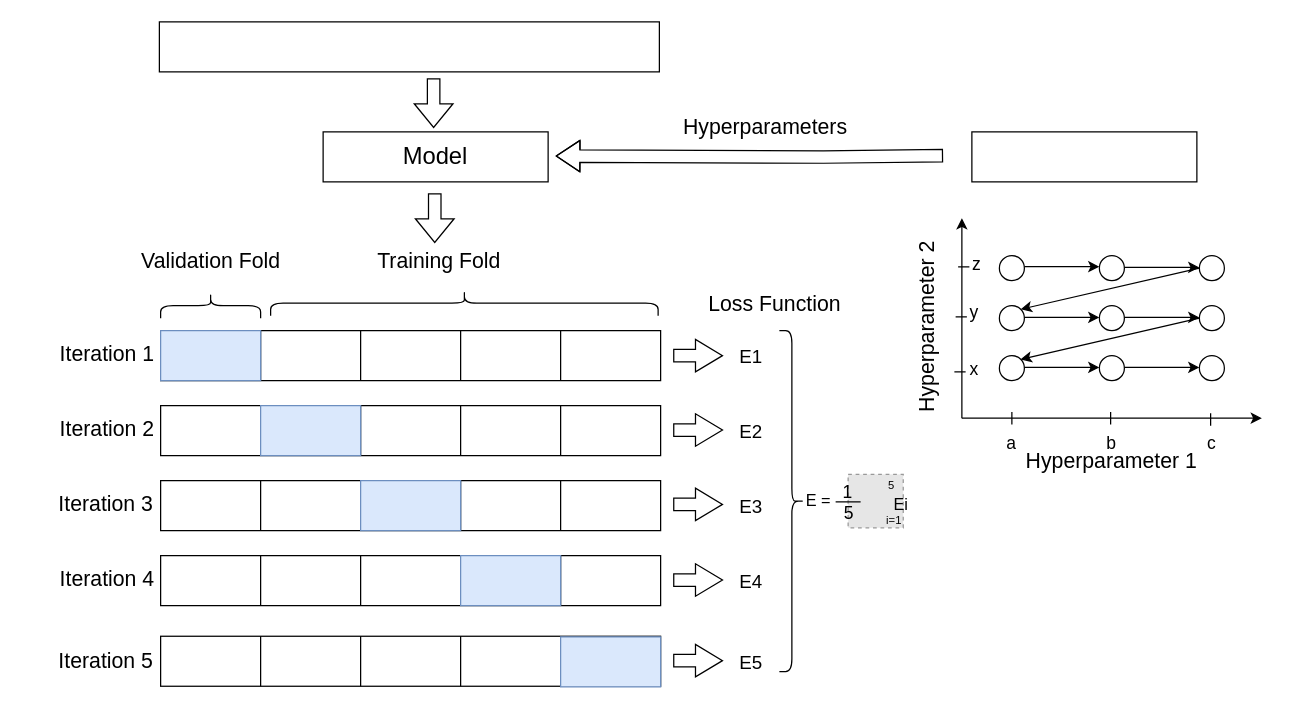
Some shapes in this 1294 by 710 pixel diagram are drawn without their labels. Grey dashed boxes stand in for pictures. The shapes that lost their labels are listed below. From the top down, each one's centre as x and y in pixels, then its label:
At pixel 408 46: "Training Set".
At pixel 1084 156: "Grid Search".
